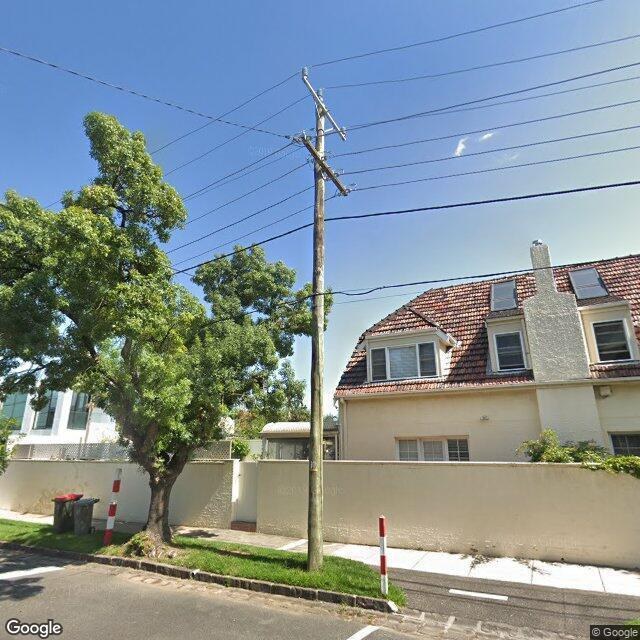HV-transmission: (302, 67, 347, 141)
crossarm: (287, 134, 359, 198), (303, 79, 347, 141)
timber-pole: (308, 98, 324, 571)
